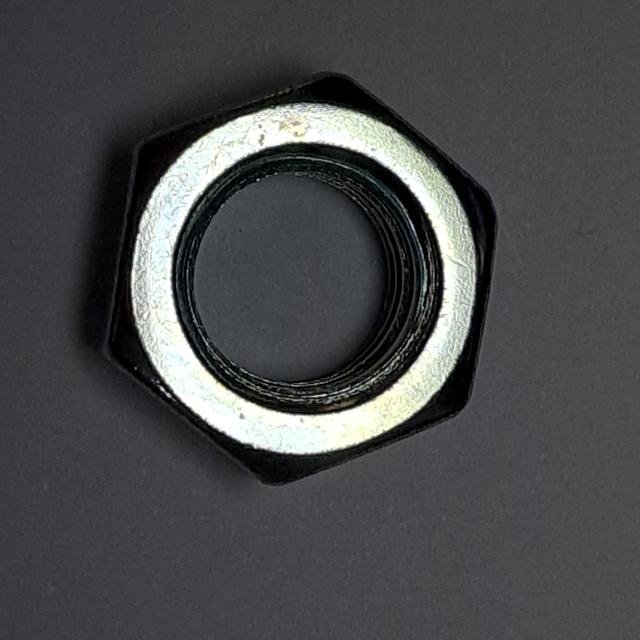Excellent: (76, 55, 508, 494)
